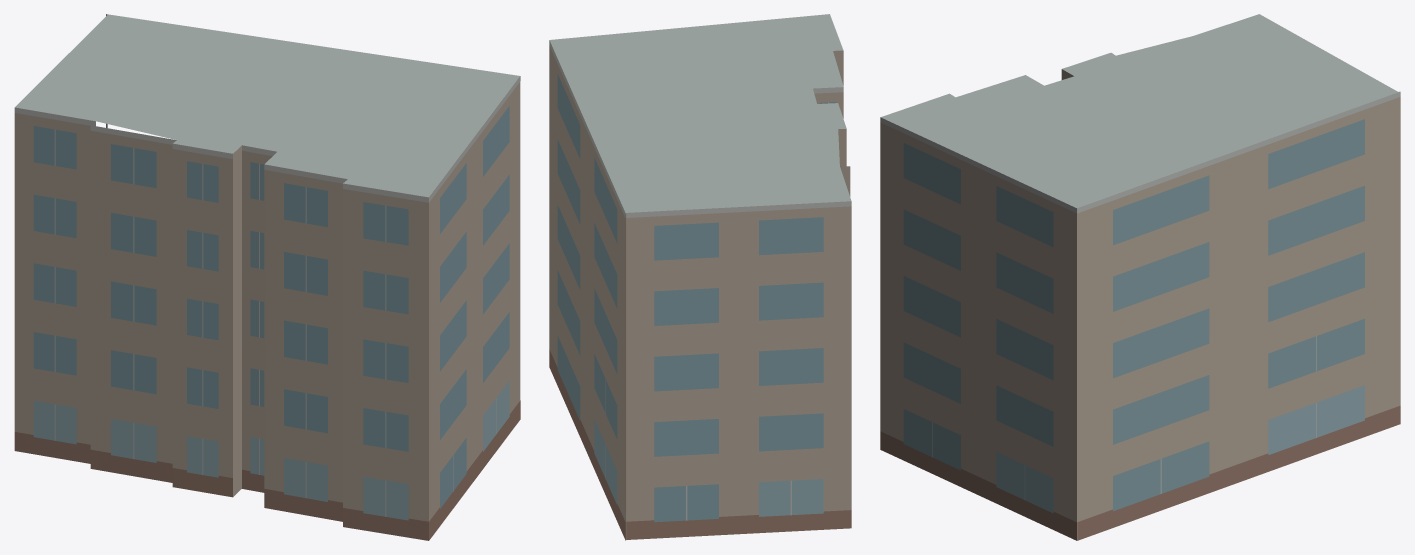
The model's file is survey-upis-32850438.glb.
3 views of the same model, side by side, from view 1: azimuth 30°, elevation 25°; view 2: azimuth 150°, elevation 25°; view 3: azimuth 270°, elevation 25° (orthographic). The views are drawn at different scales.
Parts seen in each view (by area): view 1: survey-upis-32850438.tmp; view 2: survey-upis-32850438.tmp; view 3: survey-upis-32850438.tmp.
Boxes of the visible parts, <box> form: survey-upis-32850438.tmp: <box>14,14,520,540</box>; survey-upis-32850438.tmp: <box>549,14,851,540</box>; survey-upis-32850438.tmp: <box>880,14,1400,540</box>.
Size of the model in its own units: 19.57 by 15.6 by 22.12.
